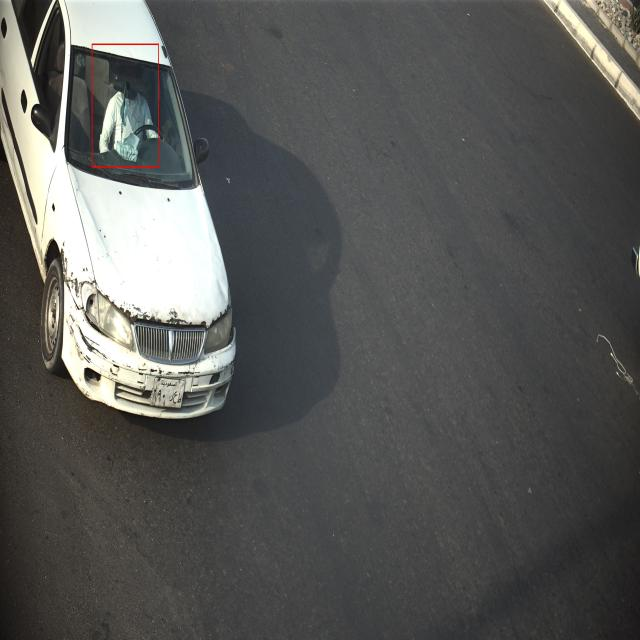windshield: (66, 38, 200, 198)
